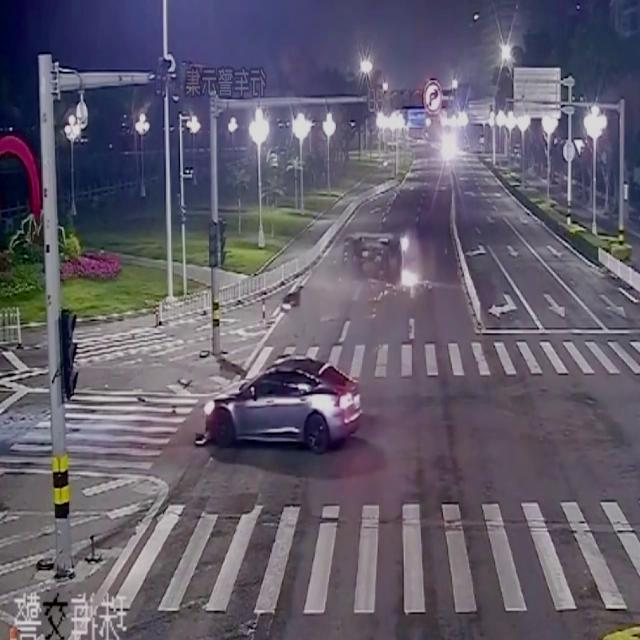accident: (127, 230, 417, 456)
